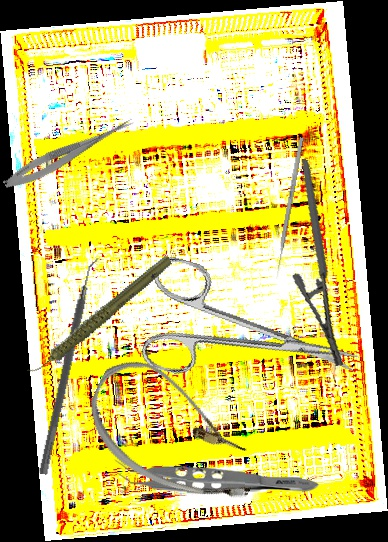Cannula: (71, 347, 281, 521)
Handpiece: (7, 252, 190, 378)
Iris Scissors: (128, 252, 372, 422)
Micro Scissor: (0, 109, 137, 196)
Needle Holder: (268, 158, 378, 368)
Pusher: (274, 137, 304, 280)
Spatula Surgical: (38, 253, 104, 478)
Tissue Forceps: (112, 457, 320, 496)
